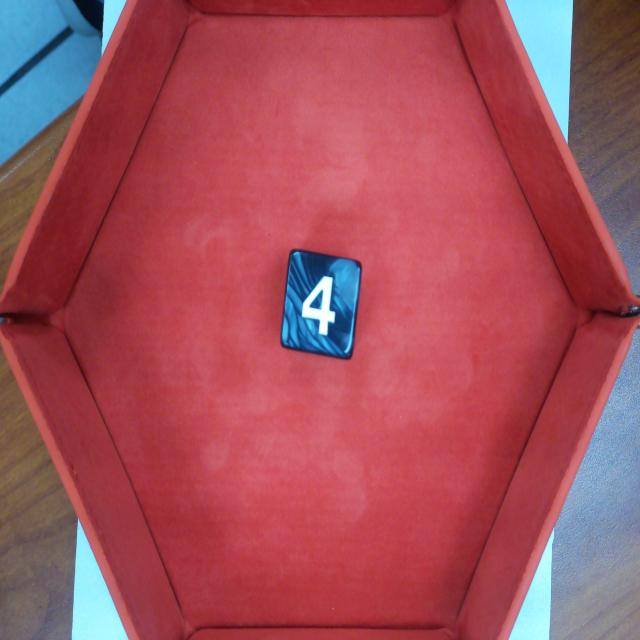dice: (281, 248, 360, 358)
